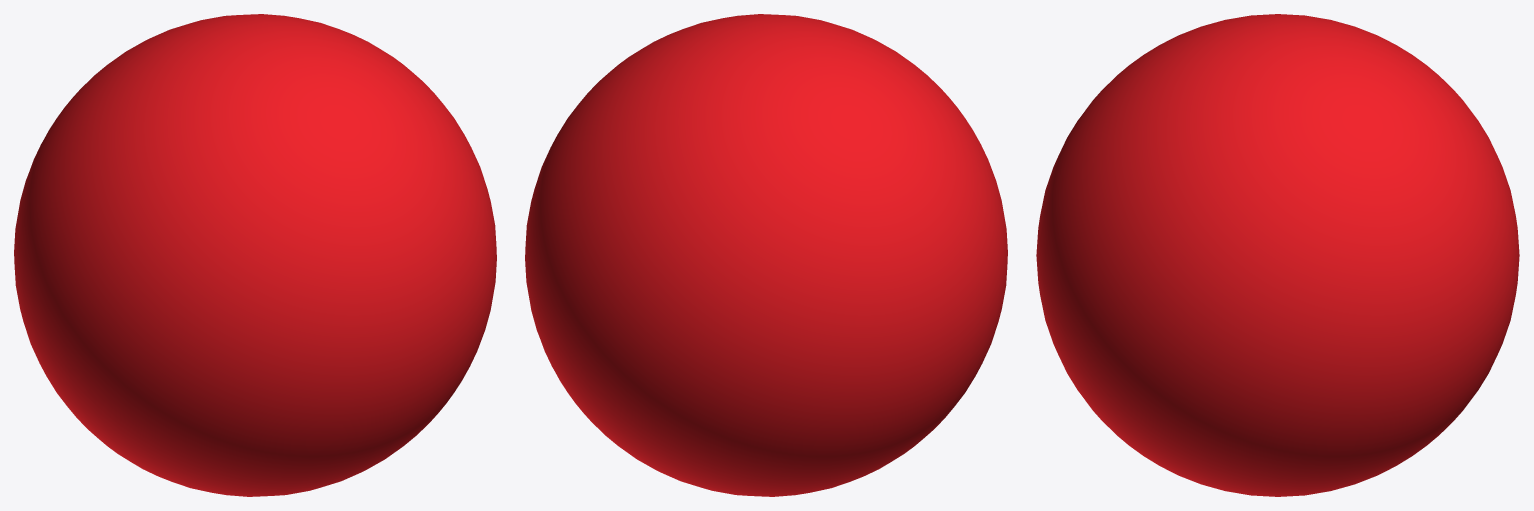
Rendered from exoDot.glb.
3 renders of one model, left to right at view 1: azimuth 30°, elevation 25°; view 2: azimuth 150°, elevation 25°; view 3: azimuth 270°, elevation 25°, orthographic.
Parts seen in each view (by area): view 1: mesh_id27; view 2: mesh_id27; view 3: mesh_id27.
Part boxes in pixels (<box>): mesh_id27: <box>14,14,496,496</box>; mesh_id27: <box>525,14,1007,496</box>; mesh_id27: <box>1036,14,1519,496</box>.
Size of the model in its own units: 0.1627 by 0.1627 by 0.1627.
Materials: 1 (1 with a texture image).
